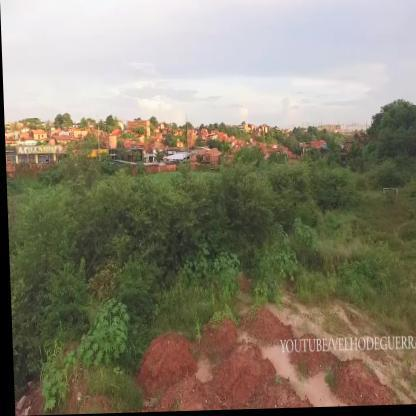agua: (259, 346, 295, 381)
